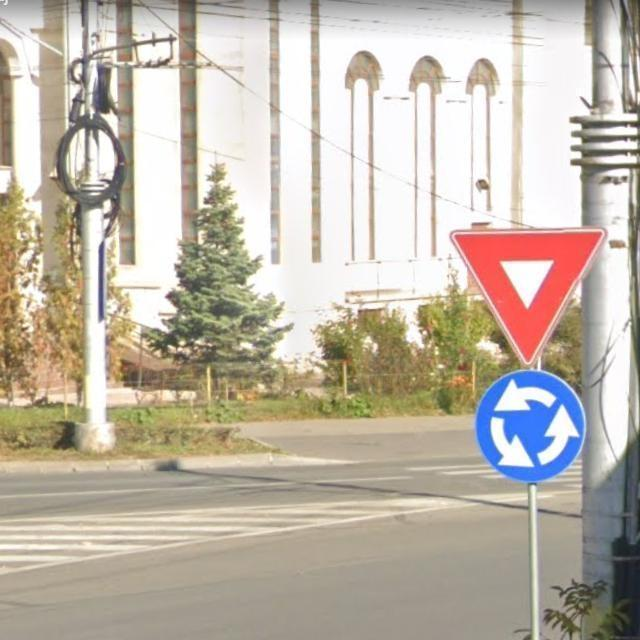prio_give_way: (444, 227, 602, 363)
